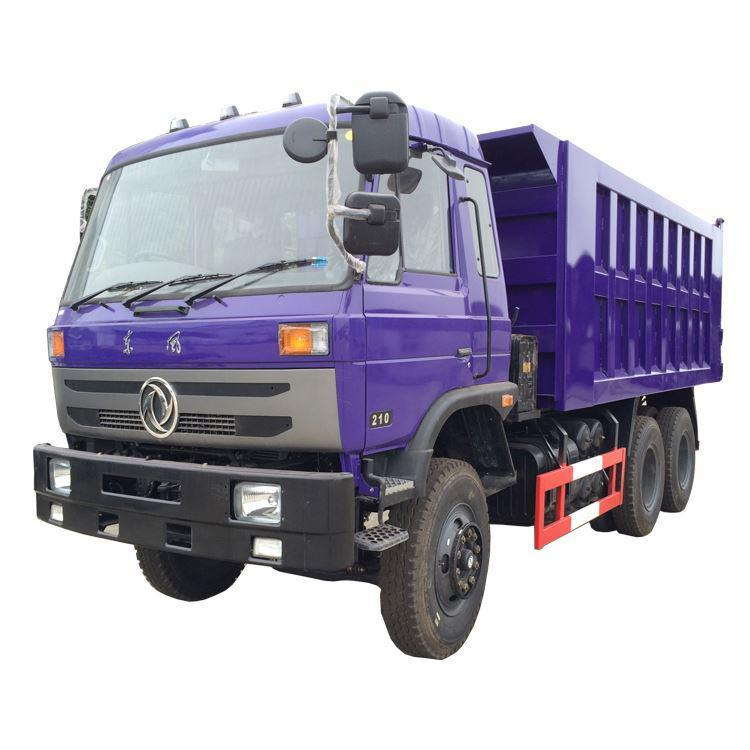Truck: (30, 86, 732, 663)
